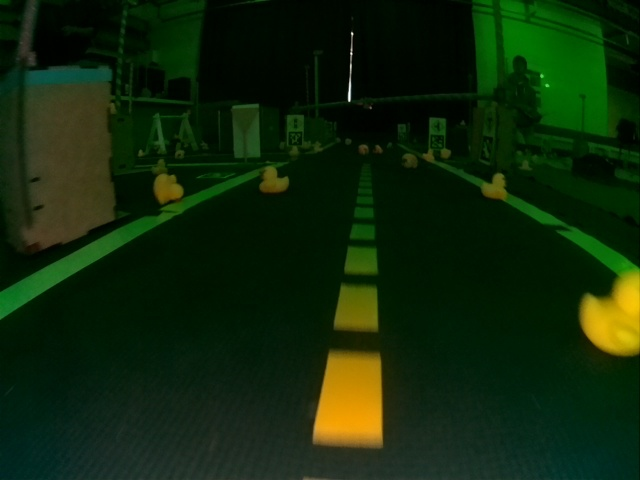Duckie: (581, 271, 638, 353), (153, 174, 185, 203), (260, 166, 288, 189), (483, 173, 506, 200), (423, 149, 432, 158), (402, 155, 412, 163), (443, 148, 451, 158), (358, 145, 365, 155), (378, 145, 384, 154)
Intersection sign: (432, 118, 442, 129)
QR code: (482, 135, 494, 162), (431, 137, 444, 148)
Signal sign: (289, 115, 299, 129)
